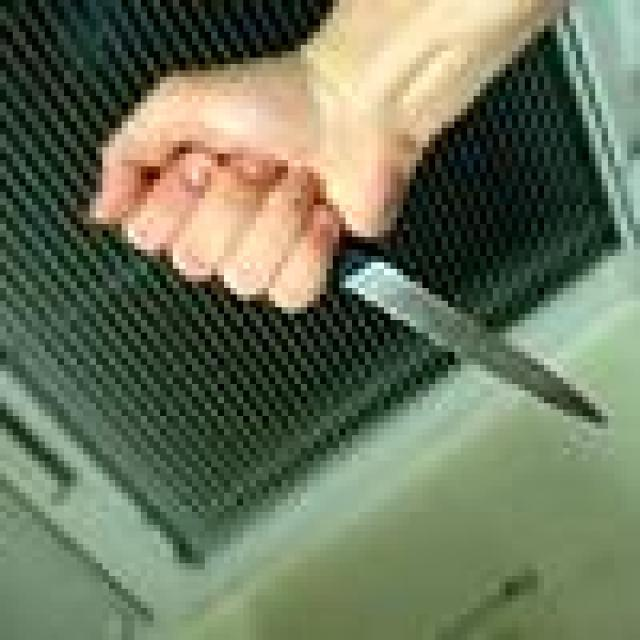faca: (64, 32, 627, 454)
